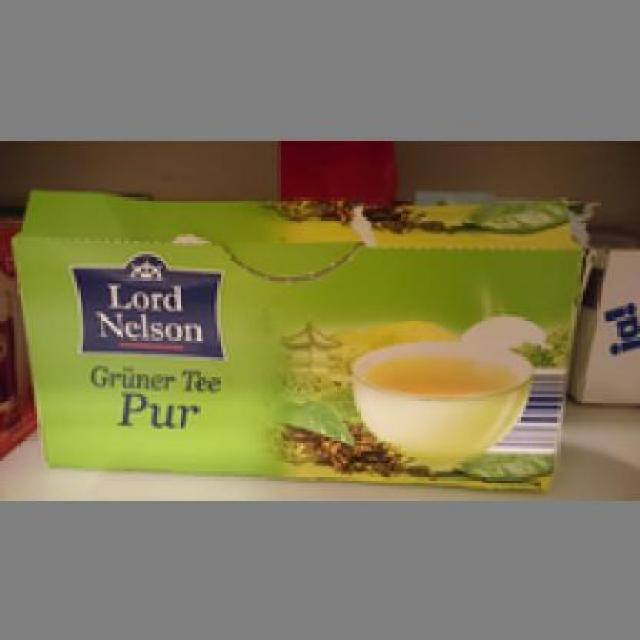Tea: (6, 183, 592, 492)
